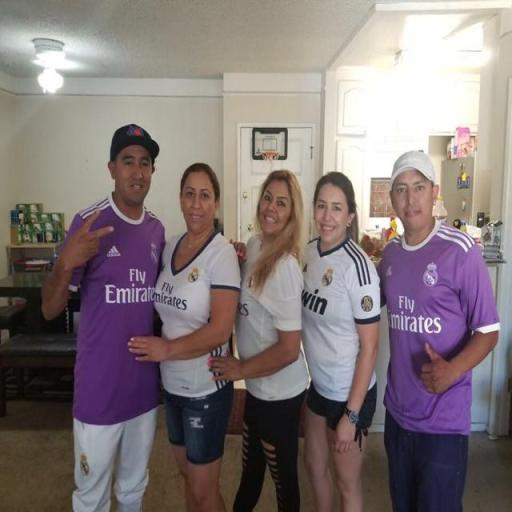Adidas: (106, 244, 122, 260)
Emirates: (386, 292, 443, 335), (104, 267, 157, 306), (154, 280, 188, 314)
